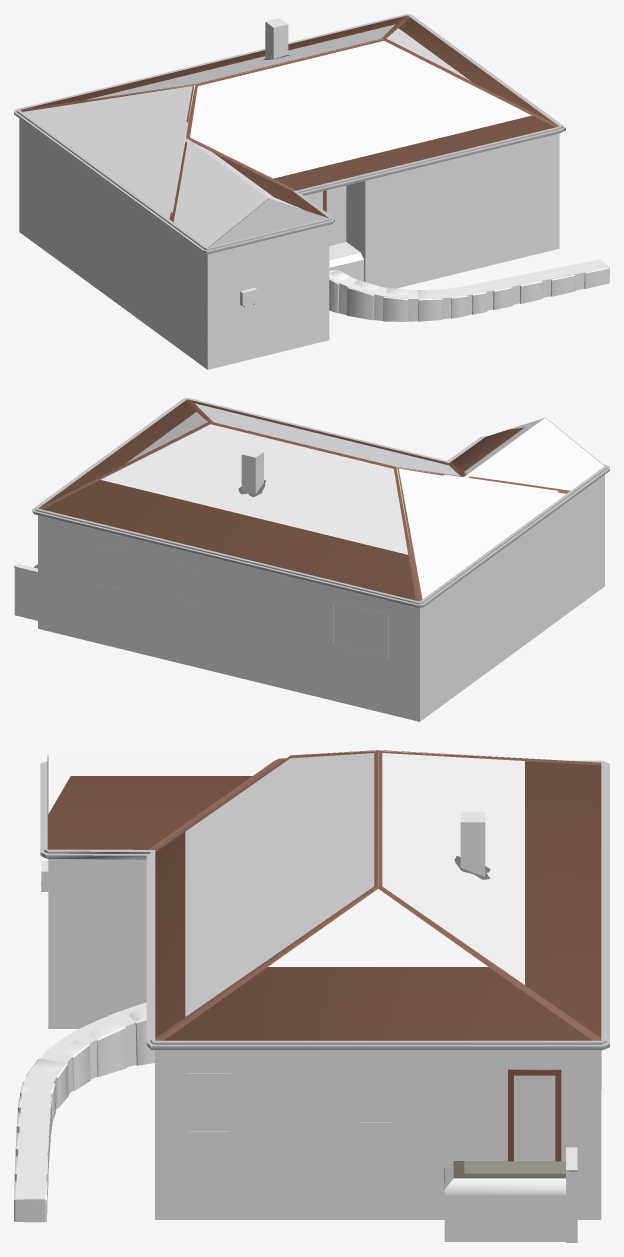
File: eca_bld_fv_house_h.DAE
3 renders of one model, top to bottom at view 1: azimuth 30°, elevation 25°; view 2: azimuth 150°, elevation 25°; view 3: azimuth 270°, elevation 25°, orthographic. The views are drawn at different scales.
Parts seen in each view (by area): view 1: Colmesh-1, eca_bld_fv_house_h60, eca_bld_fv_house_h120, eca_bld_fv_house_h250; view 2: Colmesh-1, eca_bld_fv_house_h60, eca_bld_fv_house_h250; view 3: Colmesh-1, eca_bld_fv_house_h60, eca_bld_fv_house_h250, eca_bld_fv_house_h120.
Boxes of the visible parts, box(x1,y1,x2,y2) form: Colmesh-1: box(19, 18, 609, 369); eca_bld_fv_house_h60: box(14, 14, 565, 254); eca_bld_fv_house_h120: box(240, 267, 609, 321); eca_bld_fv_house_h250: box(20, 15, 558, 307); Colmesh-1: box(14, 403, 604, 721); eca_bld_fv_house_h60: box(32, 398, 609, 608); eca_bld_fv_house_h250: box(38, 399, 570, 659); Colmesh-1: box(15, 750, 601, 1242); eca_bld_fv_house_h60: box(40, 759, 609, 1050); eca_bld_fv_house_h250: box(41, 750, 601, 1161); eca_bld_fv_house_h120: box(14, 861, 577, 1221).
Size of the model in its own units: 17.57 by 14.5 by 7.46.
